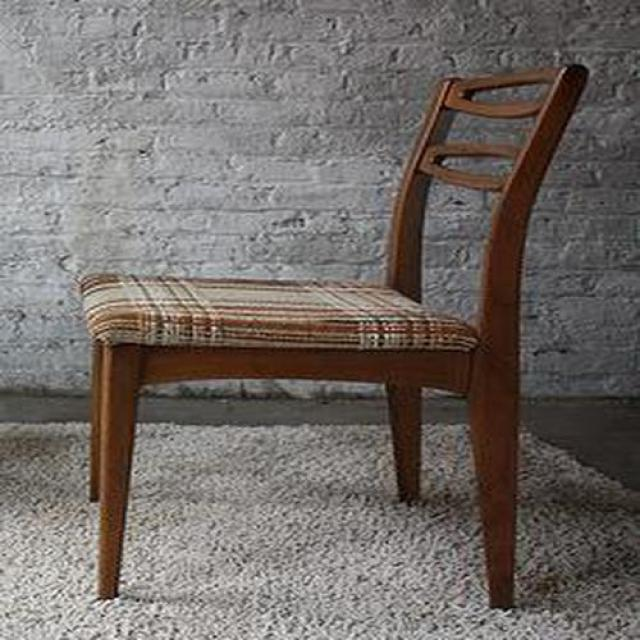chair: (77, 65, 589, 611)
